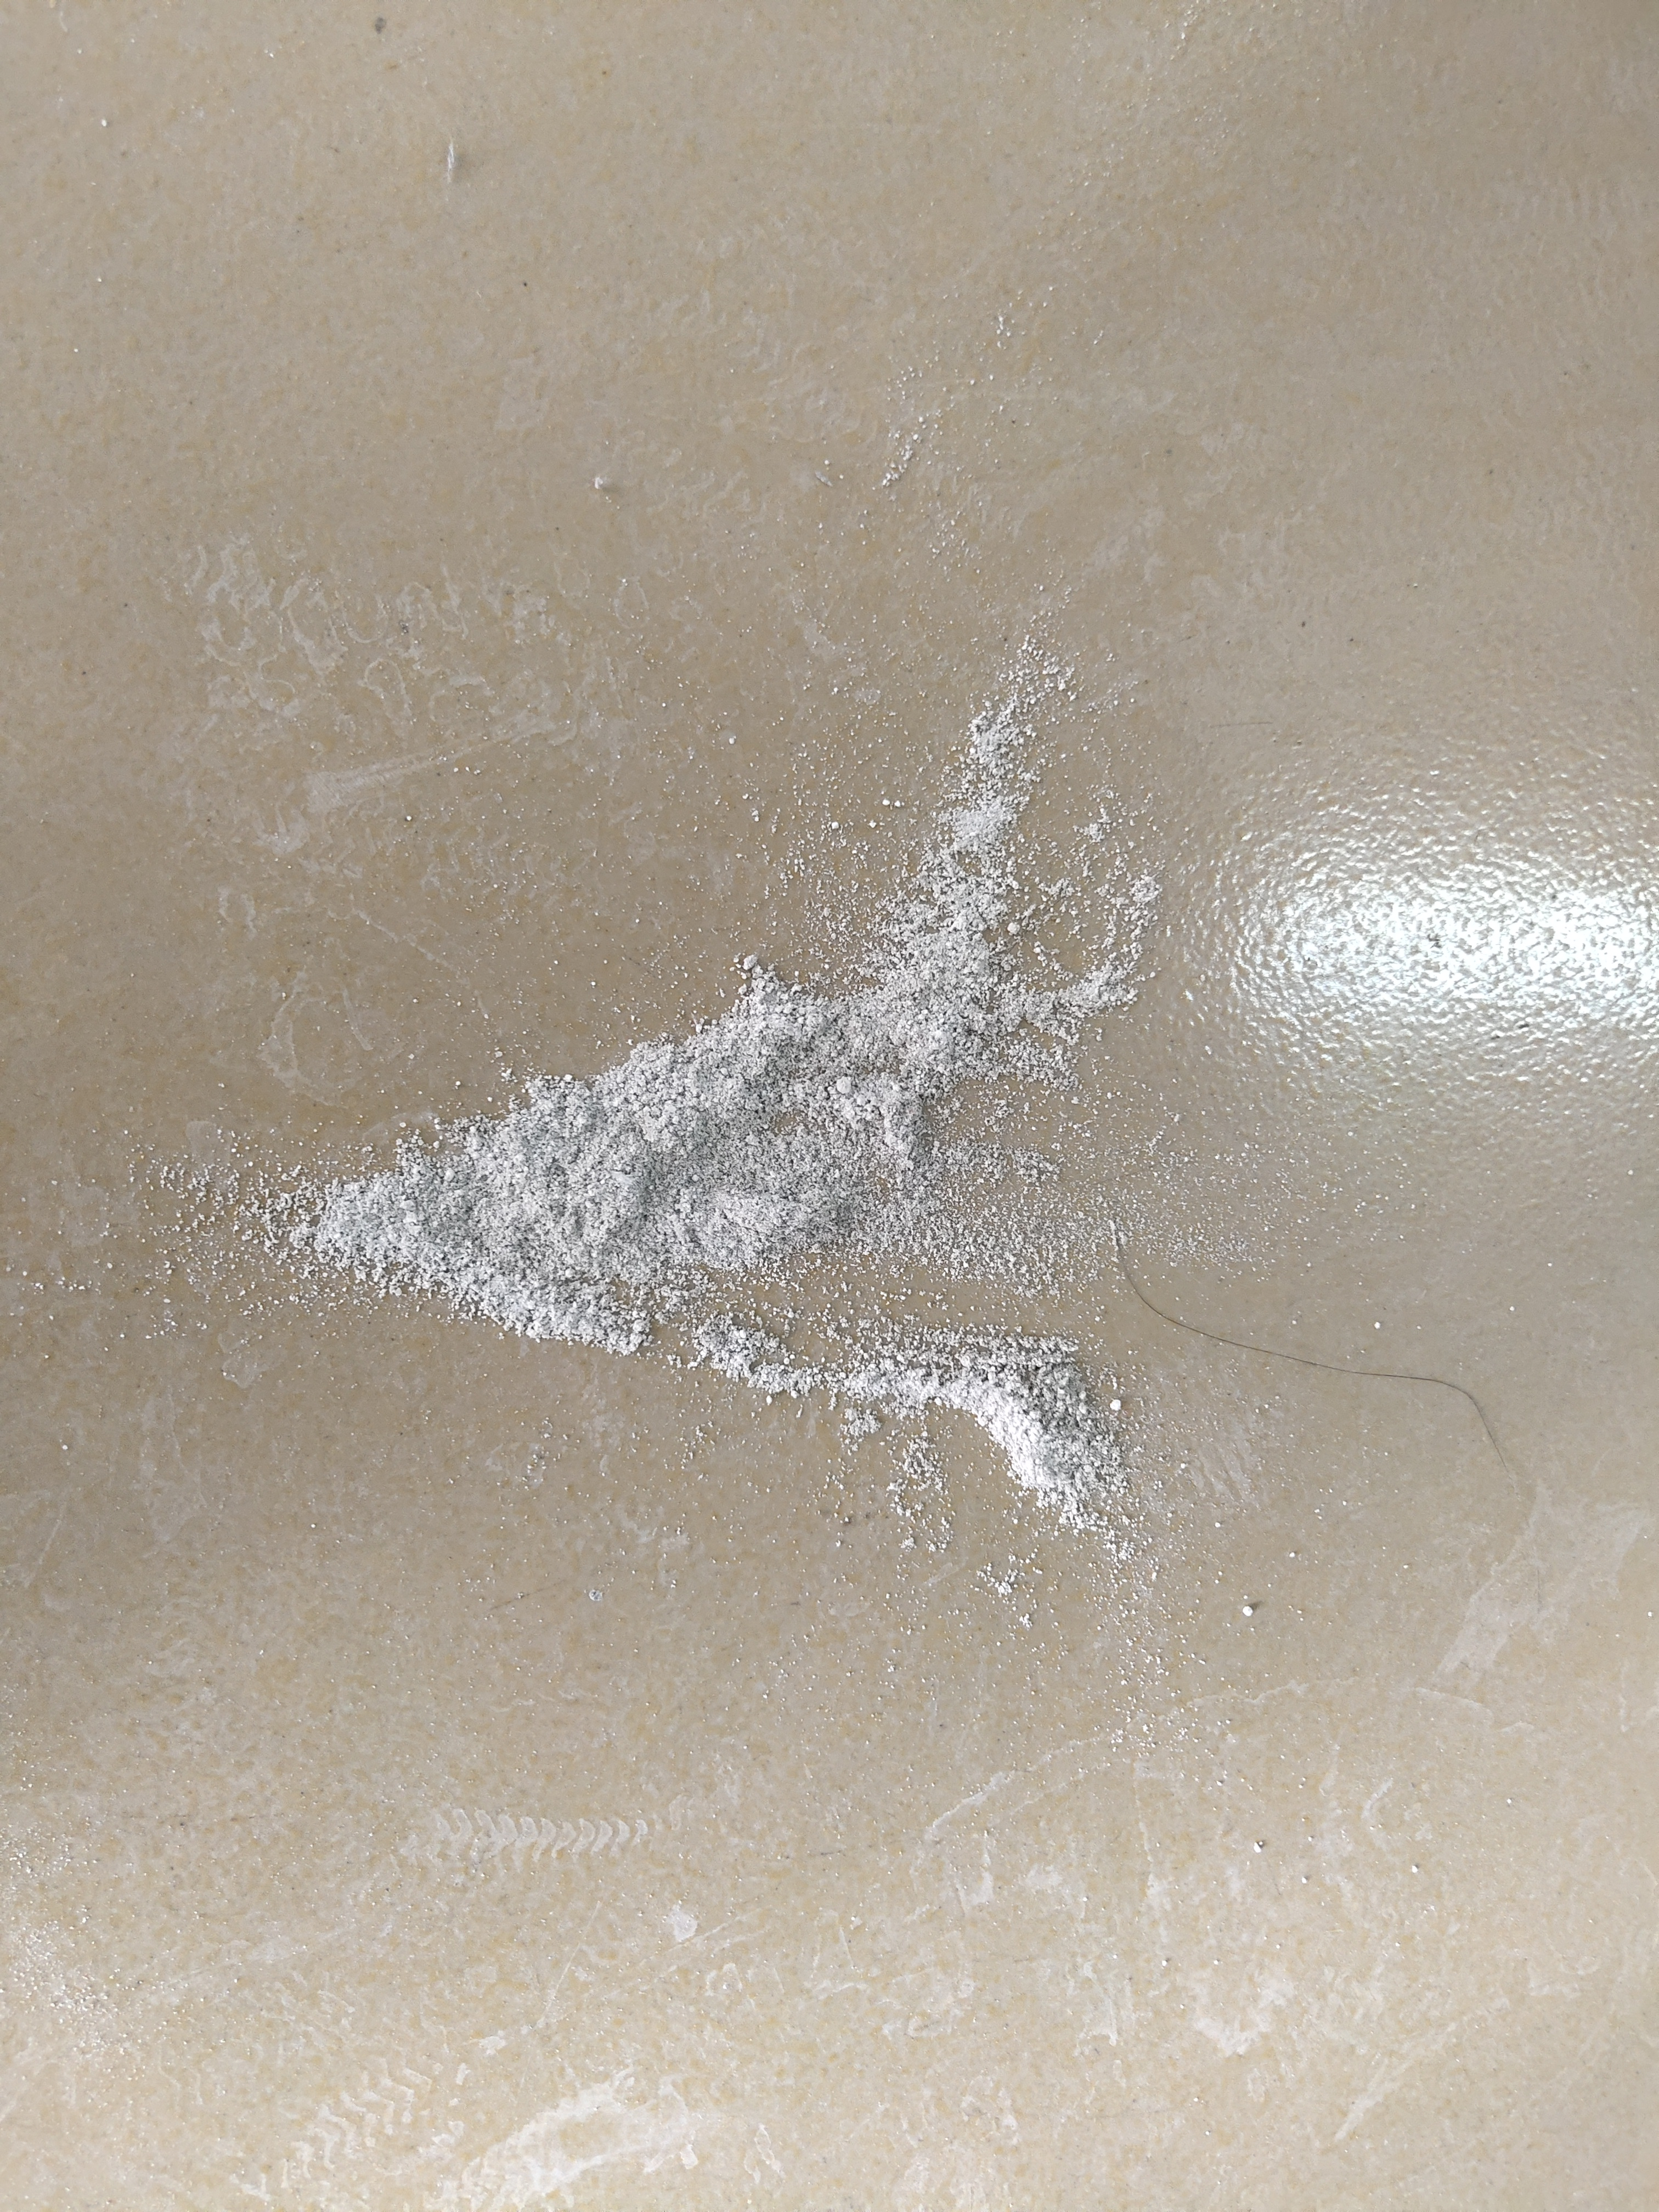ash pile: (150, 618, 1159, 1548)
reflection: (1209, 799, 1659, 1087)
